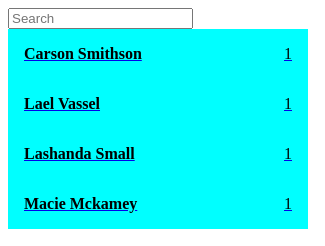
Test: <AuthorList> › search works
In the field with placeholder "Search": (101, 19) [8,8,193,29], type "Macie"
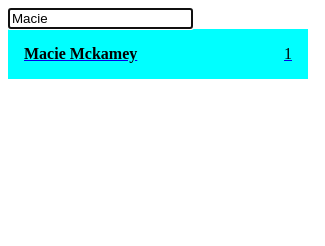
expect the text with class "authorListItemName" reads "Macie Mckamey": met, box [24,45,137,63]
expect the number of elements with class "authorListItem" is 1: met, box [8,29,308,79]
